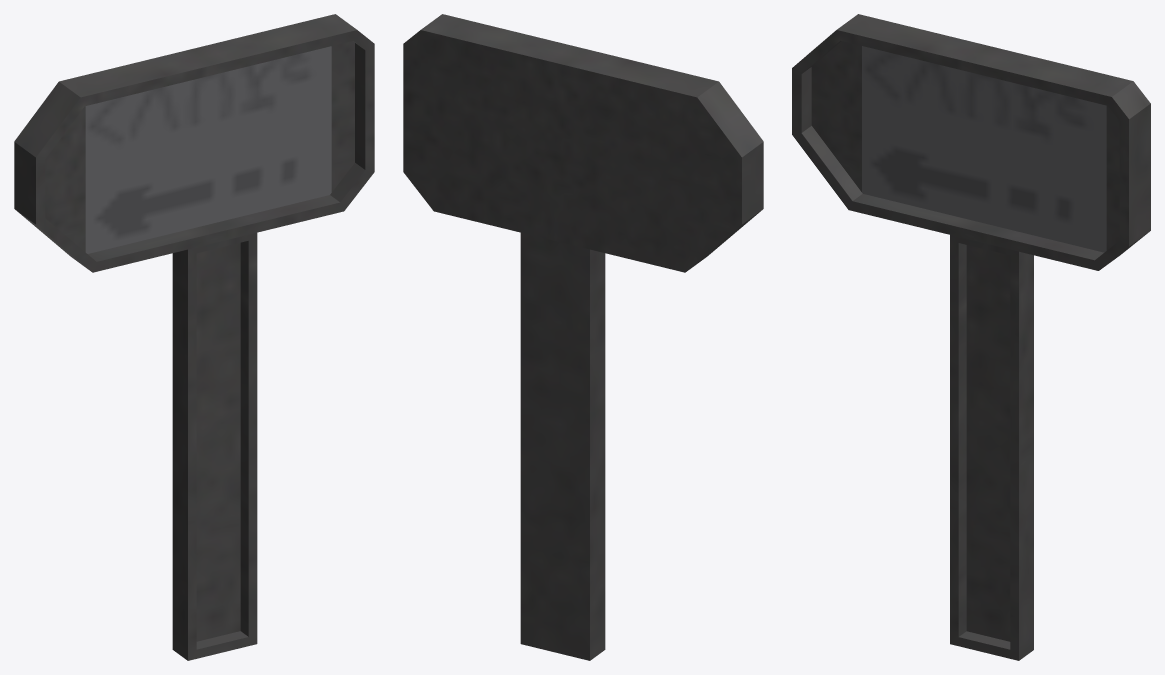
File: Sign 2.fbx
3 renders of one model, left to right at view 1: azimuth 30°, elevation 25°; view 2: azimuth 150°, elevation 25°; view 3: azimuth 330°, elevation 25°, orthographic.
Parts seen in each view (by area): view 1: Sign_2; view 2: Sign_2; view 3: Sign_2.
Boxes of the visible parts, left/top/right/bottom form: Sign_2: left=14, top=14, right=374, bottom=660; Sign_2: left=403, top=14, right=763, bottom=660; Sign_2: left=792, top=14, right=1150, bottom=660.
Bounding box in the file's own units: 124 × 207 × 13.81.
1 material, 1 textured.
